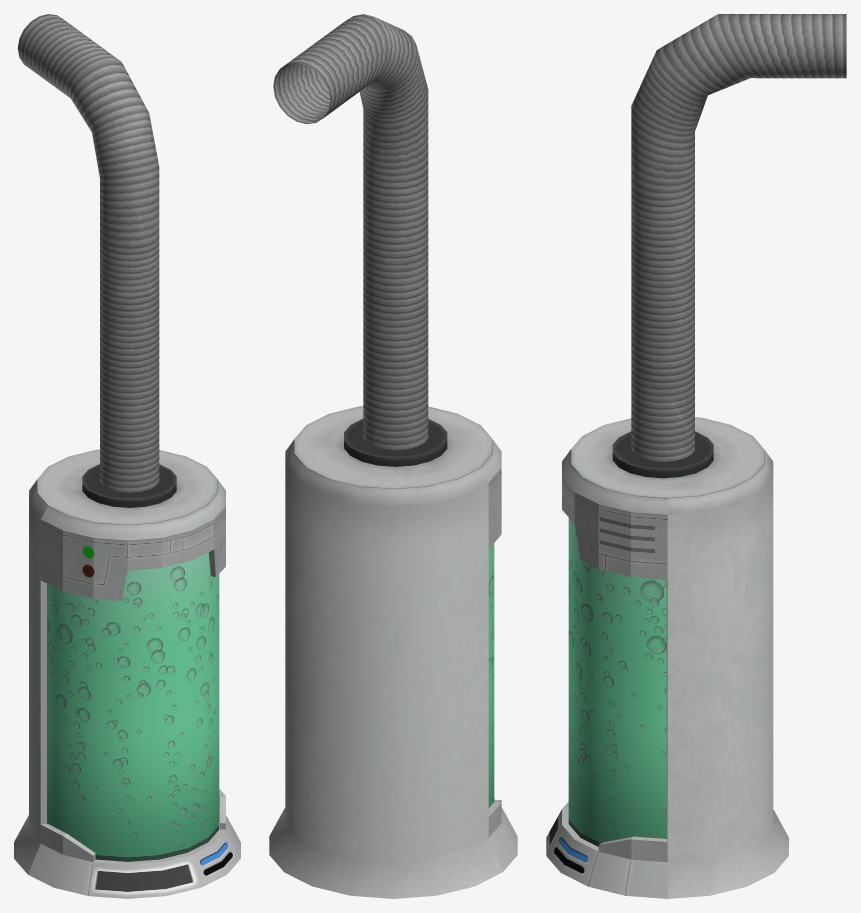
File: tank.FBX
3 renders of one model, left to right at view 1: azimuth 30°, elevation 25°; view 2: azimuth 150°, elevation 25°; view 3: azimuth 270°, elevation 25°, orthographic. The views are drawn at different scales.
Parts seen in each view (by area): view 1: tank; view 2: tank; view 3: tank.
Boxes of the visible parts, x1,y1,x2,y2 form: tank: (14,14,240,898); tank: (269,14,517,898); tank: (546,14,846,898).
Size of the model in its own units: 137 by 509 by 167.
